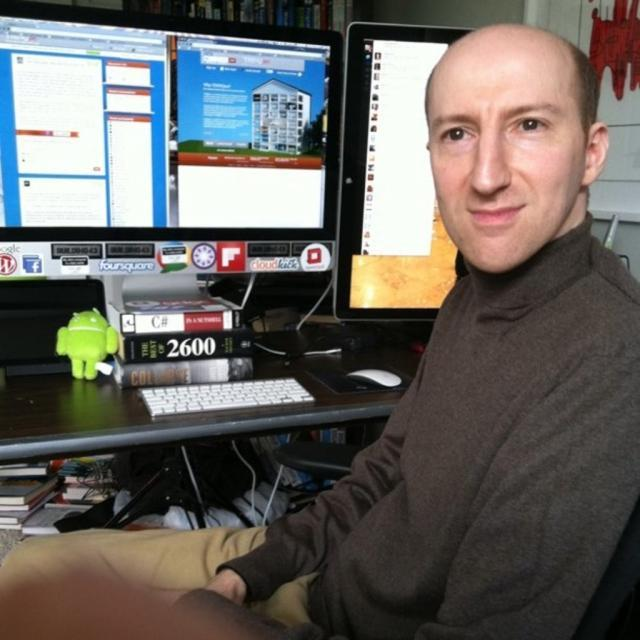others: (1, 4, 640, 476)
